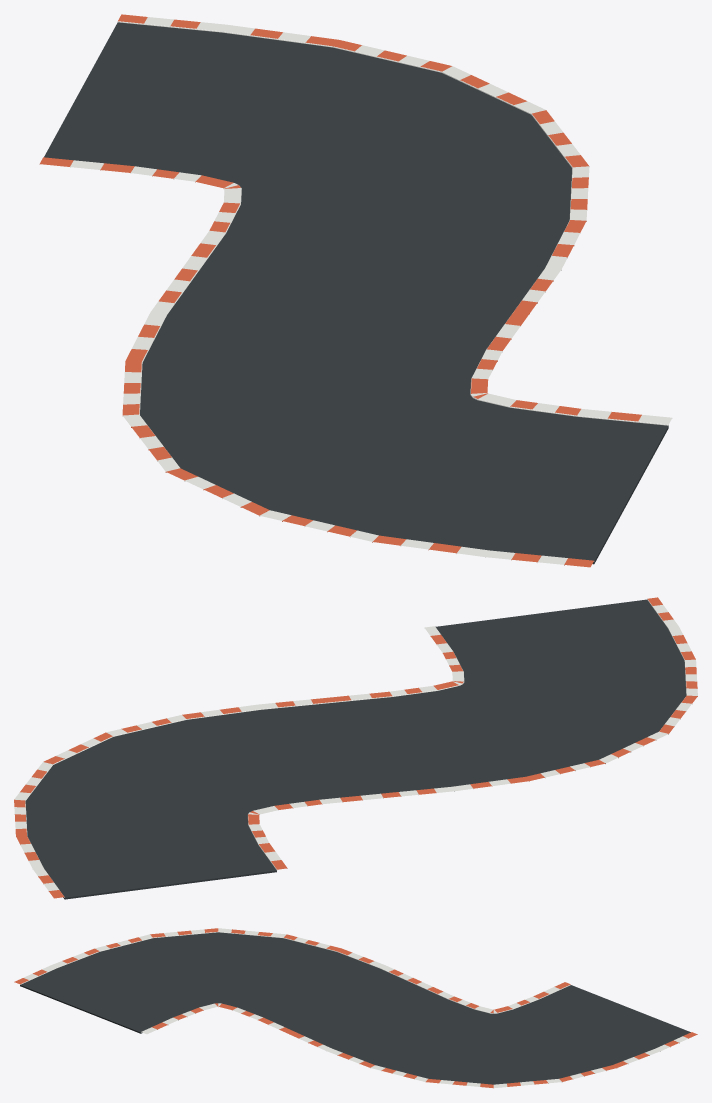
Rendered from sbend.glb.
The picture shows the model from 3 angles, top to bottom: view 1: azimuth 30°, elevation 25°; view 2: azimuth 150°, elevation 25°; view 3: azimuth 270°, elevation 25°; orthographic projection. The views are drawn at different scales.
Visible parts, largest first — view 1: s-bend; view 2: s-bend; view 3: s-bend.
Part boxes in pixels (x1,y1,x2,y2): s-bend: [39, 14, 672, 567]; s-bend: [14, 597, 697, 899]; s-bend: [14, 928, 697, 1088].
Size of the model in its own units: 27.5 by 0.148 by 49.65.
